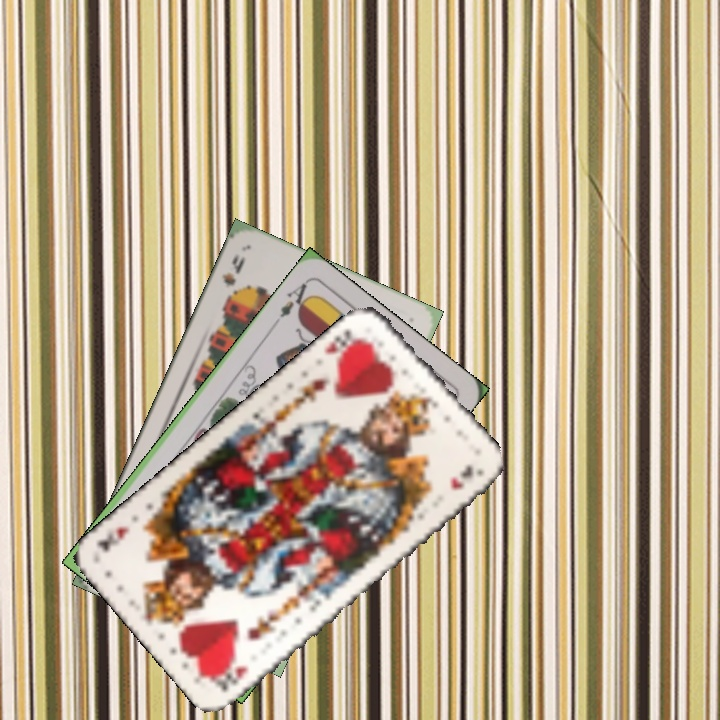EA: (276, 278, 315, 320)
HK: (319, 323, 368, 366), (212, 661, 252, 695)
S9: (218, 250, 248, 306)
